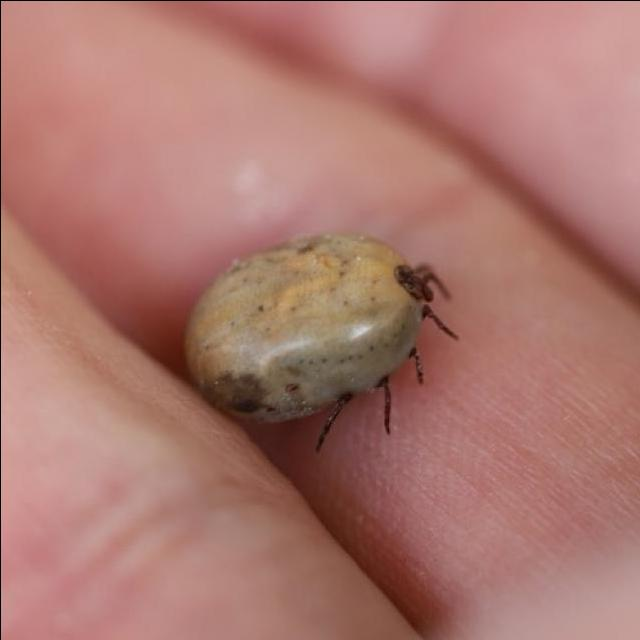Dermacentor Reticulatus-F-Fed: (182, 233, 459, 453)
